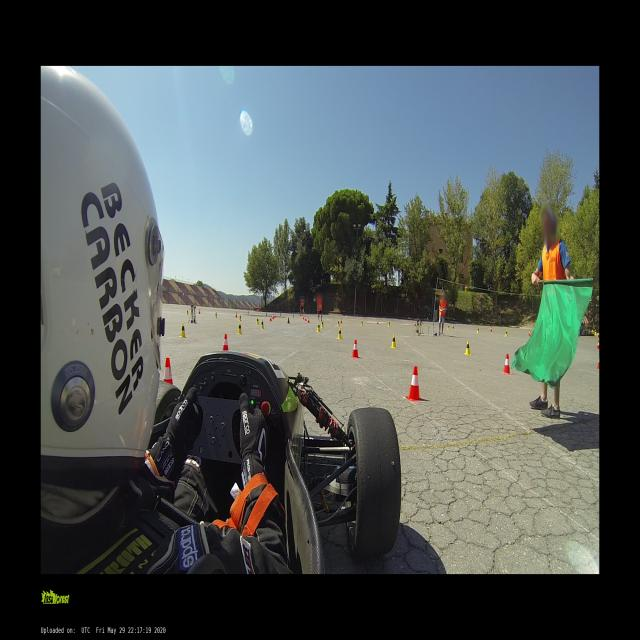blue_cone: (288, 317, 289, 323), (293, 314, 294, 318), (280, 312, 281, 316), (266, 312, 267, 316), (248, 310, 248, 314)
orange_cone: (406, 366, 423, 401), (501, 354, 511, 374), (164, 358, 172, 382), (351, 339, 359, 358), (222, 334, 228, 350), (596, 340, 599, 350), (597, 357, 599, 371), (235, 312, 238, 318), (272, 314, 274, 320), (340, 317, 342, 323), (414, 321, 416, 327), (529, 330, 530, 336), (308, 317, 309, 323), (491, 327, 492, 332), (305, 316, 306, 321), (270, 316, 271, 321), (199, 309, 200, 314), (377, 320, 378, 324), (303, 316, 304, 320), (274, 314, 275, 318), (452, 324, 453, 328)
yellow_cone: (179, 323, 186, 338), (464, 341, 471, 355), (391, 334, 396, 348), (338, 328, 342, 339), (238, 323, 242, 334), (261, 319, 264, 329), (317, 323, 320, 332), (505, 329, 508, 337), (337, 320, 340, 326), (447, 324, 450, 330), (322, 320, 324, 328), (256, 316, 258, 324), (594, 330, 597, 335), (239, 314, 241, 321), (477, 327, 479, 333), (360, 320, 362, 326), (215, 312, 217, 318), (388, 321, 390, 326)
